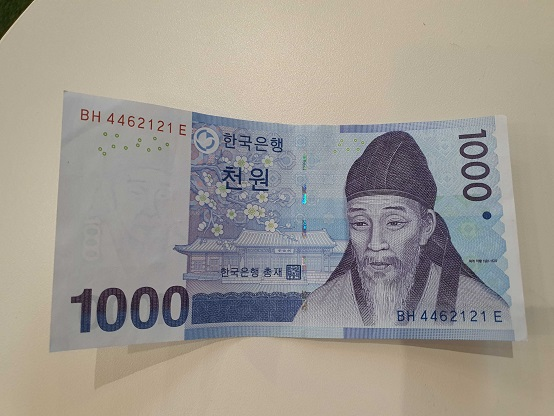1000won: (49, 89, 530, 352)
